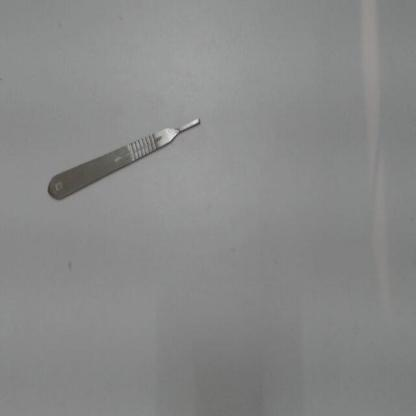No.3 BP Handle: (39, 100, 217, 218)
